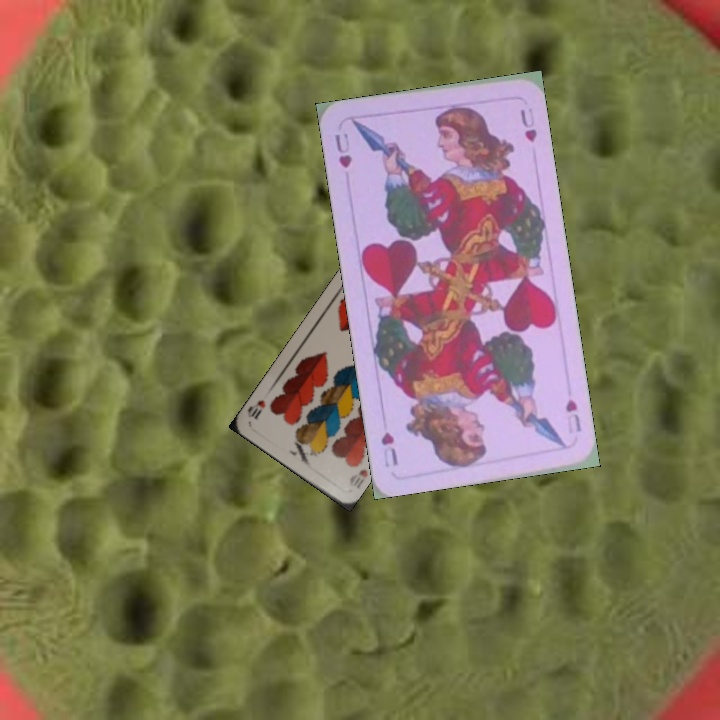H10: (345, 465, 371, 491)
HU: (330, 129, 355, 171), (561, 395, 584, 437)
